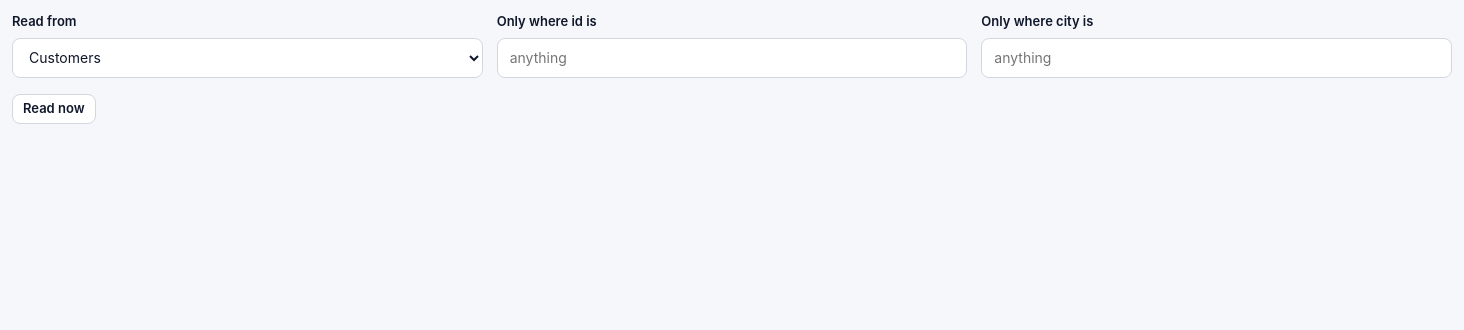
Scenario: trying a connector › reads the chosen table with the filters typed, and shows what a form would get
Type "Pune" into the field labelled "Only where city is" at (1217, 58), box [981, 38, 1452, 78]
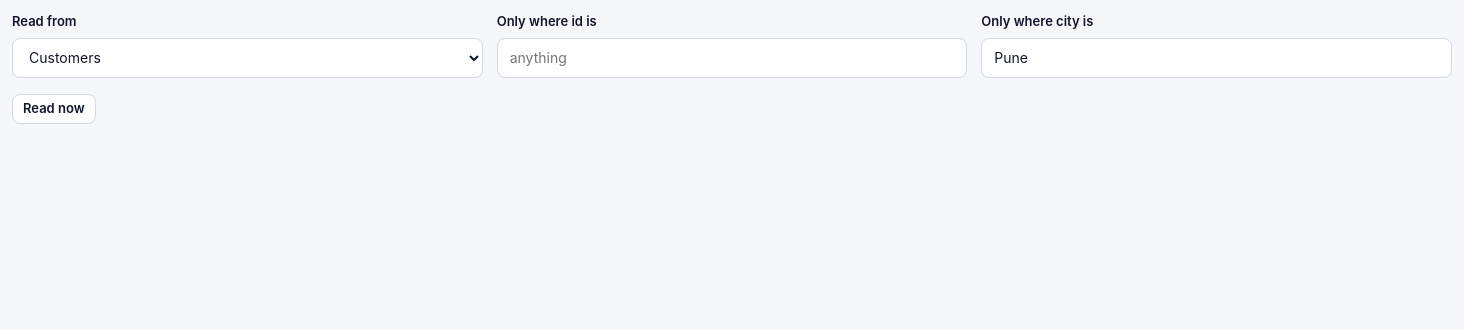
Click the button "Read now" at (54, 108), box [12, 94, 96, 124]
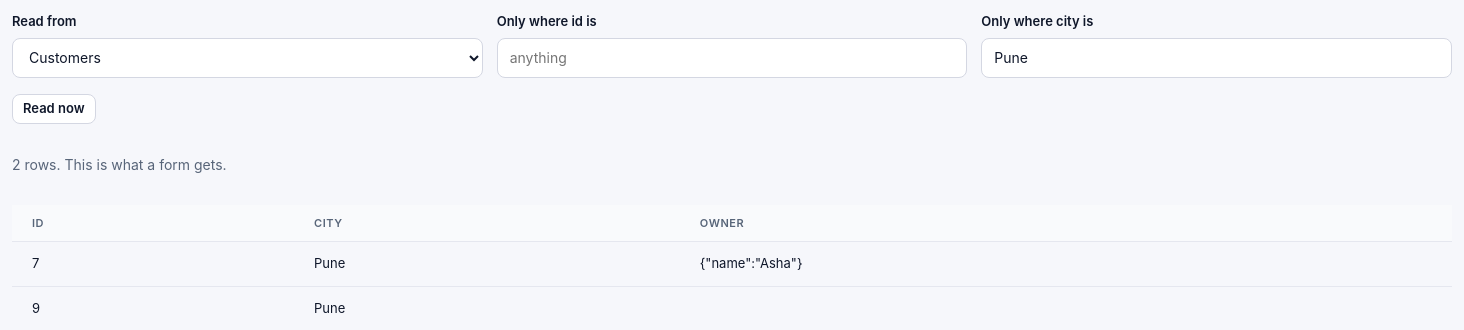
Expected: the column headings read "id", "city", "owner", in this order, [12, 204, 294, 242]; [294, 204, 680, 242]; [680, 204, 1452, 242]
Expected: the text "{\"name\":\"Asha\"}" is shown, [680, 242, 1452, 286]
Expected: the text "2 rows. This is what a form gets." is shown, [12, 156, 227, 172]
